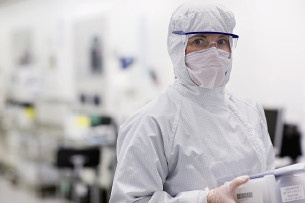Mask: (177, 31, 234, 89)
